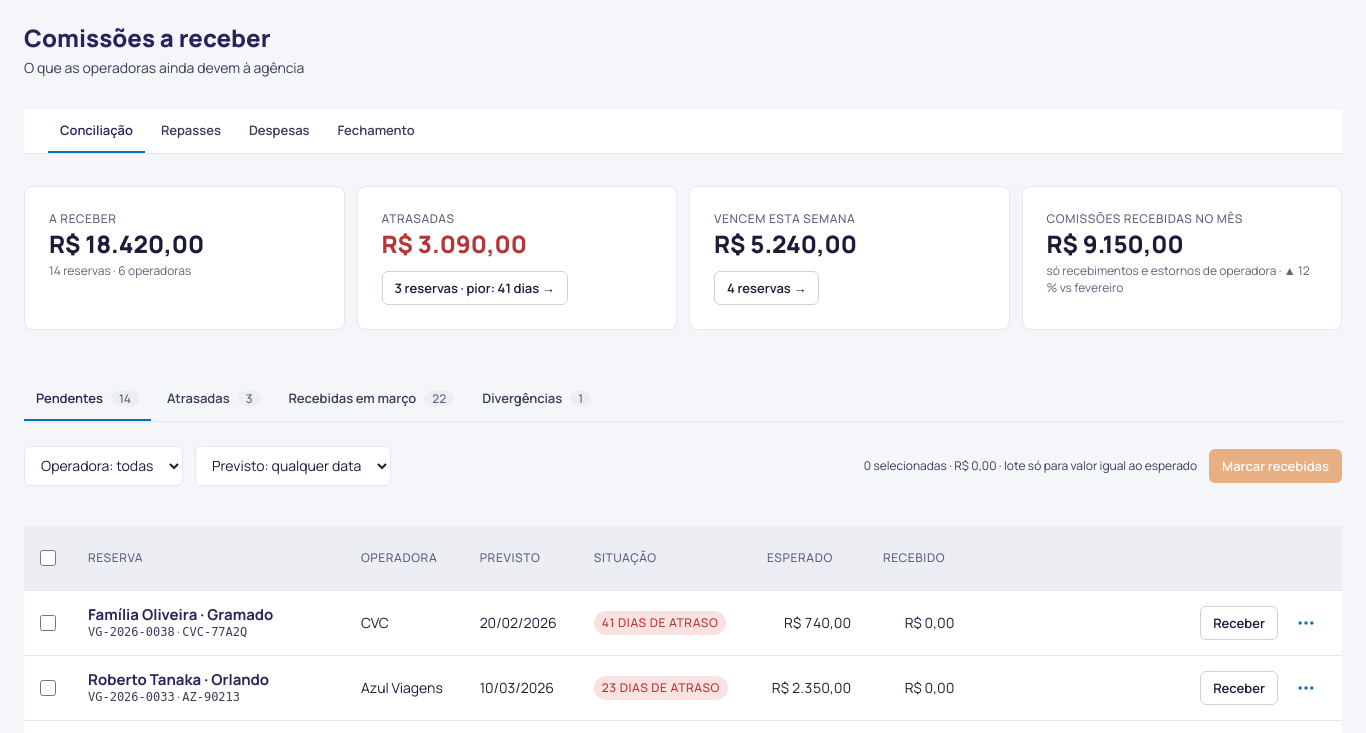
selecionar todas elegíveis marca as elegíveis e ignora a parcial
The image size is (1366, 733).
Click the checkbox named "Selecionar todas elegíveis" at {"x": 48, "y": 558}, box x1=40 y1=550 x2=56 y2=566
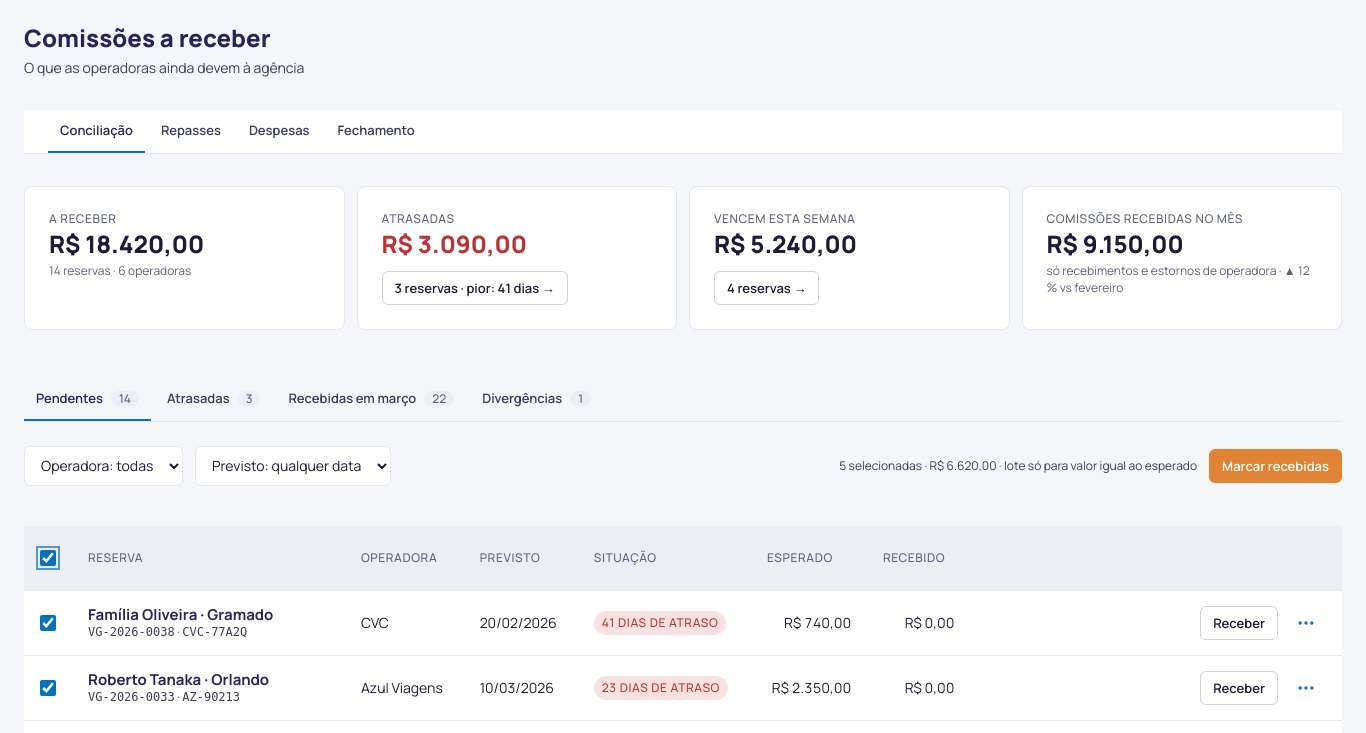
Check: the text "5 selecionadas" is shown, box x1=839 y1=458 x2=1197 y2=474
Click the checkbox named "Selecionar todas elegíveis" at {"x": 48, "y": 558}, box x1=40 y1=550 x2=56 y2=566
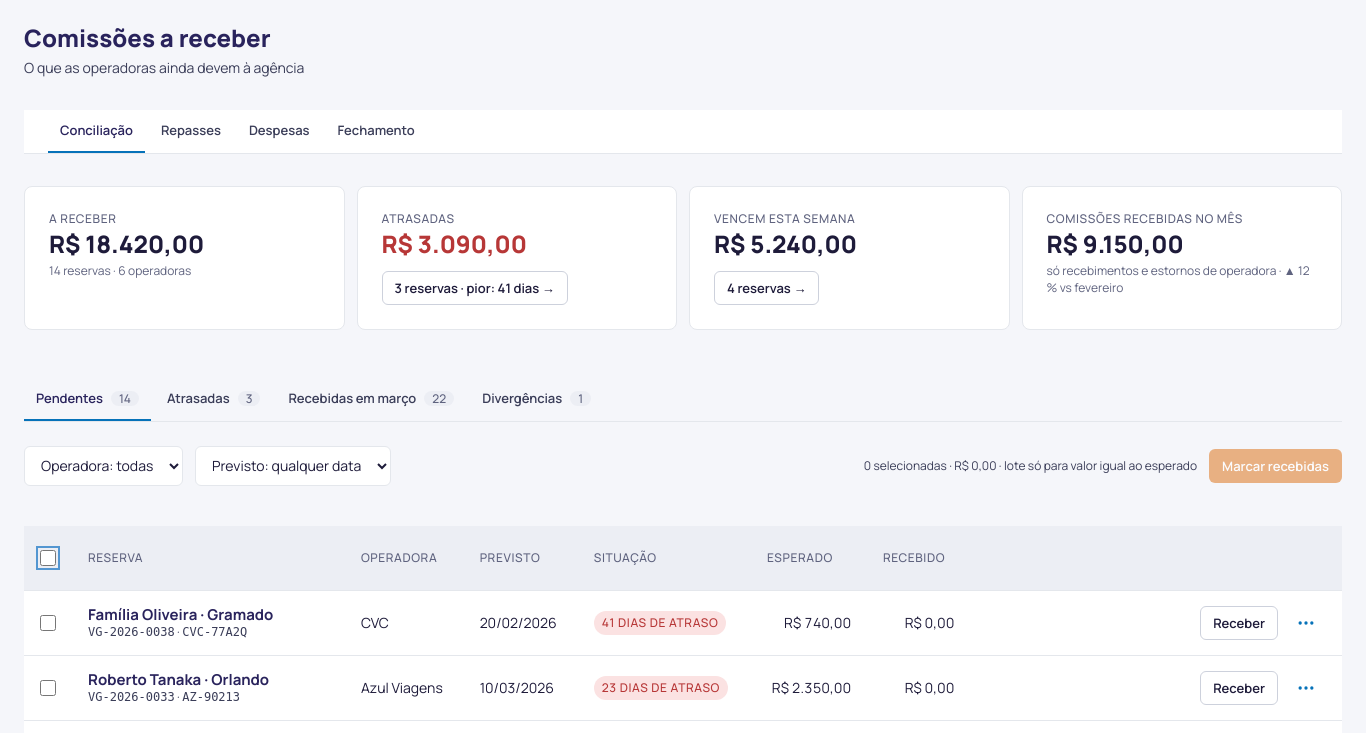
Check: the text "0 selecionadas" is shown, box x1=864 y1=458 x2=1197 y2=474
